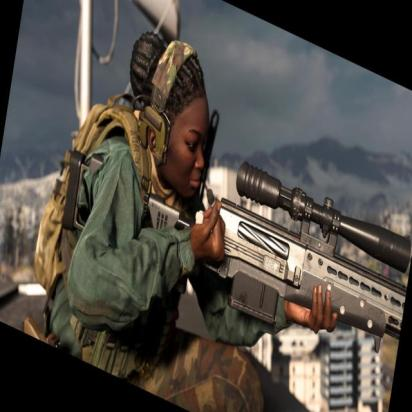Gun: (63, 145, 412, 344)
